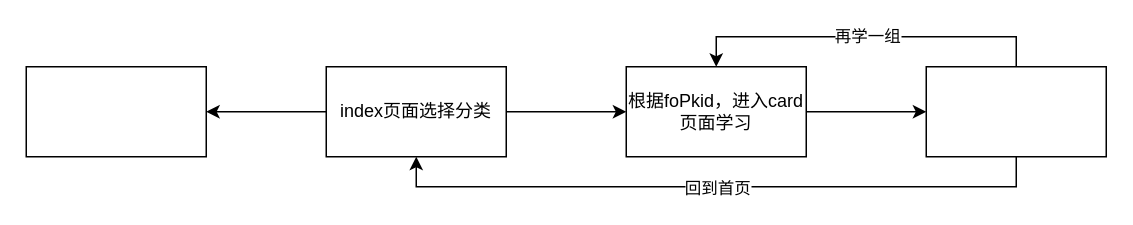
Some shapes in this 1133 by 225 pixel diagram are drawn without their labels. The box of each missing label's shape, as (x1, y1, x2, y2) in pixels:
管理页面，修改folder，修改card，上传card: (25, 65, 206, 157)
进入submit页面，提交用户做题的数据: (925, 65, 1106, 157)
